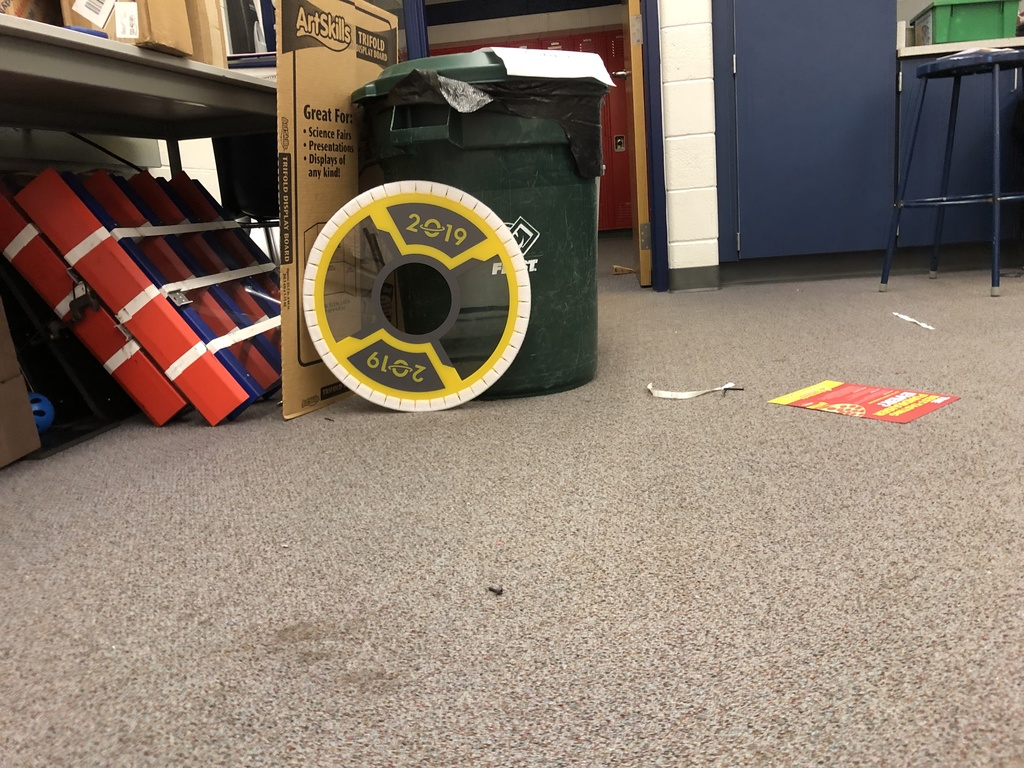hatch_panel: (301, 175, 544, 419)
